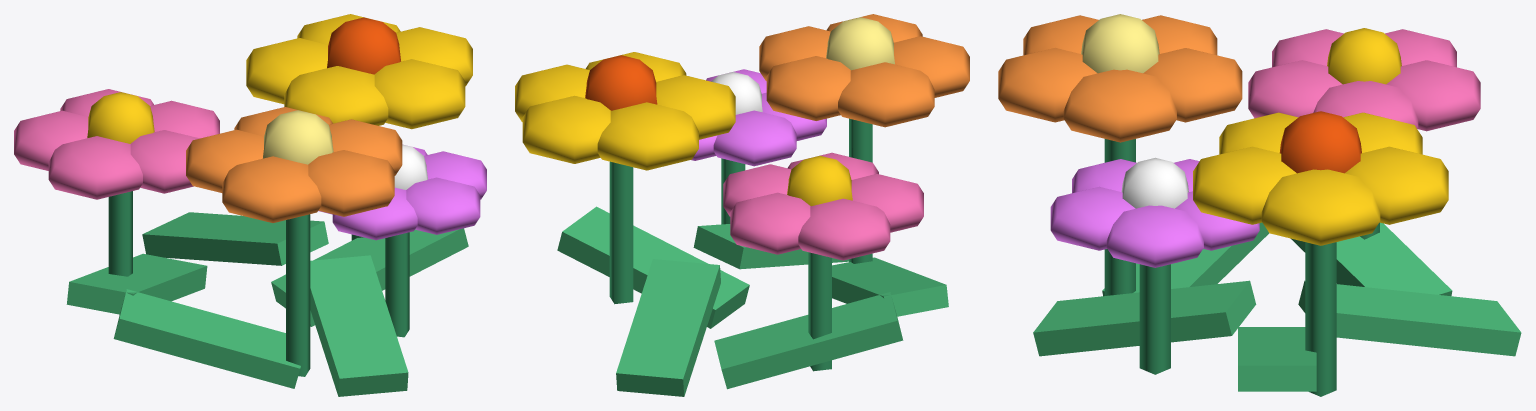
Rendered from flower_patch.glb.
3 views of the same model, side by side, from view 1: azimuth 30°, elevation 25°; view 2: azimuth 150°, elevation 25°; view 3: azimuth 270°, elevation 25° (orthographic). The views are drawn at different scales.
Visible parts, largest first — view 1: flower_patch, flower_head_1, flower_head_2, flower_head_0, flower_head_3; view 2: flower_patch, flower_head_1, flower_head_2, flower_head_0, flower_head_3; view 3: flower_patch, flower_head_1, flower_head_2, flower_head_0, flower_head_3.
Boxes of the visible parts, x1=… form: flower_patch: x1=66, y1=191, x2=468, y2=396; flower_head_1: x1=246, y1=14, x2=472, y2=129; flower_head_2: x1=186, y1=107, x2=402, y2=222; flower_head_0: x1=14, y1=89, x2=219, y2=199; flower_head_3: x1=318, y1=144, x2=486, y2=240; flower_patch: x1=557, y1=118, x2=948, y2=396; flower_head_1: x1=515, y1=52, x2=735, y2=170; flower_head_2: x1=759, y1=14, x2=969, y2=127; flower_head_0: x1=723, y1=152, x2=923, y2=260; flower_head_3: x1=691, y1=69, x2=826, y2=166; flower_patch: x1=1033, y1=139, x2=1521, y2=396; flower_head_1: x1=1193, y1=111, x2=1448, y2=245; flower_head_2: x1=998, y1=14, x2=1242, y2=142; flower_head_0: x1=1248, y1=28, x2=1480, y2=131; flower_head_3: x1=1050, y1=157, x2=1259, y2=267.
Bounding box in the file's own units: 0.6233 × 0.3782 × 0.6001.
